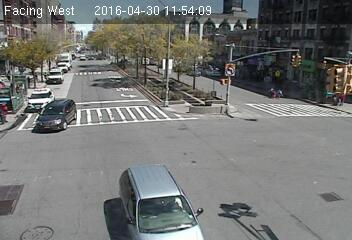neg: (228, 109, 254, 144), (78, 91, 104, 125), (165, 102, 188, 133), (113, 162, 135, 191), (53, 168, 75, 197), (300, 134, 321, 161), (165, 40, 186, 67), (102, 44, 122, 71), (328, 64, 347, 90), (40, 31, 59, 56), (136, 73, 154, 96), (223, 166, 240, 189), (187, 68, 204, 90), (294, 51, 310, 73), (9, 57, 25, 78), (231, 54, 245, 74), (219, 24, 233, 43), (261, 44, 275, 62), (11, 134, 25, 152)
